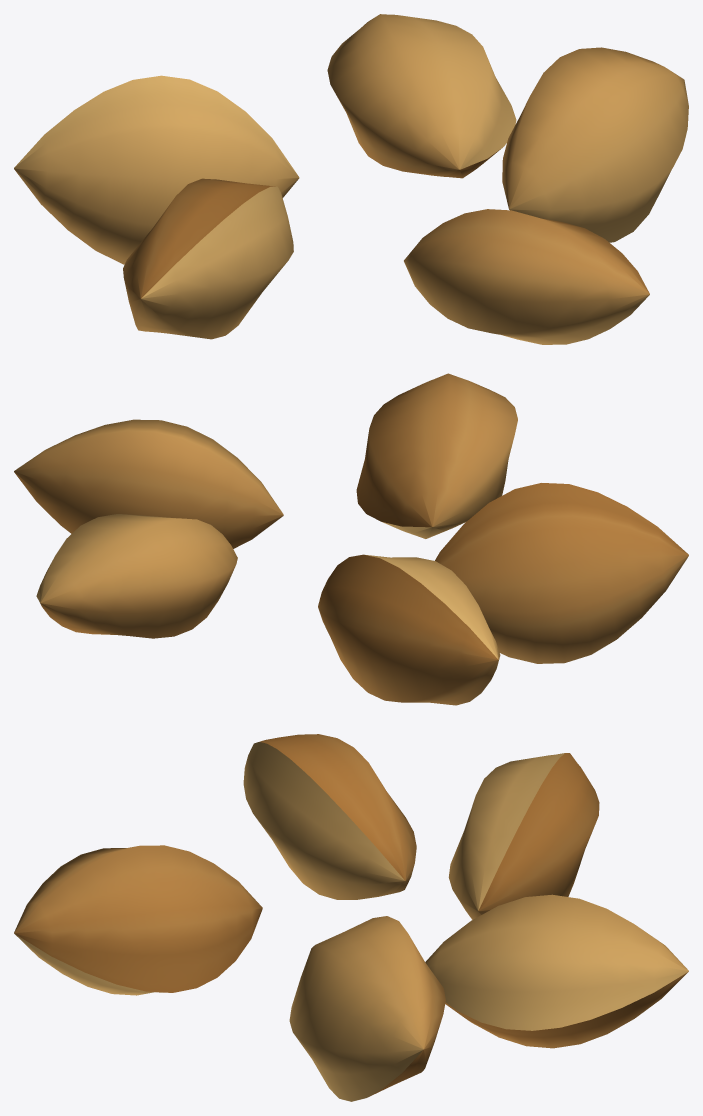
File: NP_Rose_Seed.fbx
3 views of the same model, one above another, from view 1: azimuth 30°, elevation 25°; view 2: azimuth 150°, elevation 25°; view 3: azimuth 270°, elevation 25° (orthographic). The views are drawn at different scales.
Parts seen in each view (by area): view 1: NP_Rose_Seed; view 2: NP_Rose_Seed; view 3: NP_Rose_Seed.
Boxes of the visible parts, x1,y1,x2,y2 form: NP_Rose_Seed: [14, 14, 688, 344]; NP_Rose_Seed: [14, 373, 688, 705]; NP_Rose_Seed: [14, 734, 688, 1101].
Bounding box in the file's own units: 13.75 × 3.46 × 13.12.
